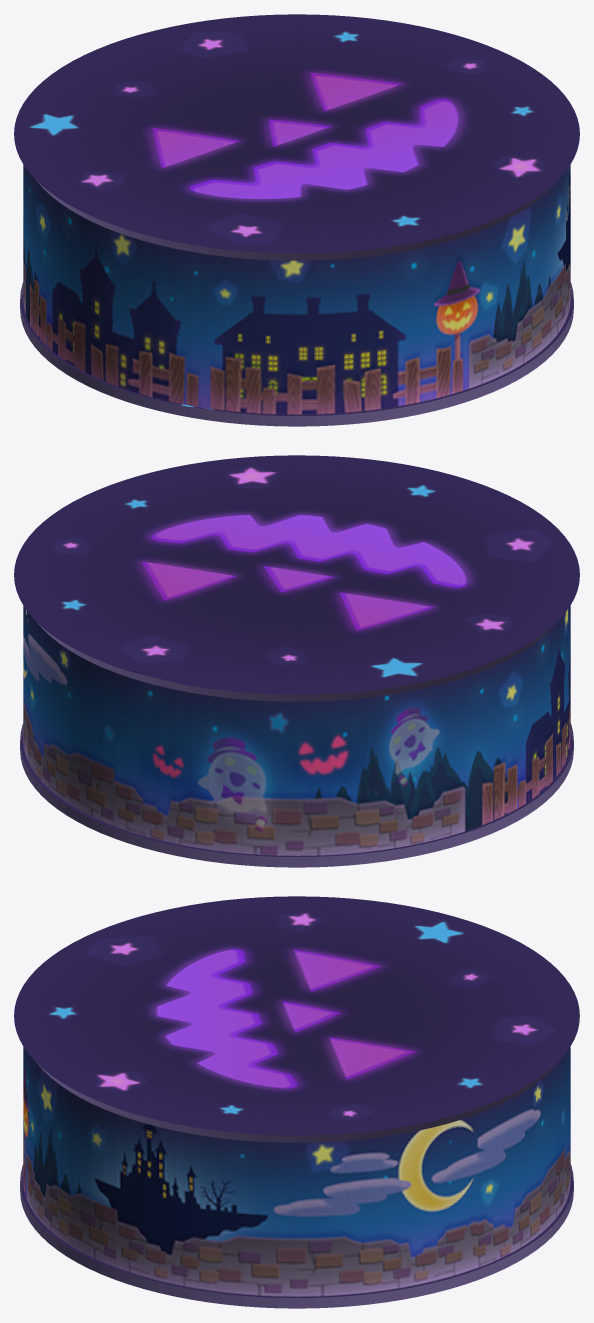
The model's file is pedestal.glb.
The picture shows the model from 3 angles, top to bottom: view 1: azimuth 30°, elevation 25°; view 2: azimuth 150°, elevation 25°; view 3: azimuth 270°, elevation 25°; orthographic projection.
Parts seen in each view (by area): view 1: StandAtlasTop, StandAtlasSide, GoldFootTrim, GoldTopLip, StandSolidBottom; view 2: StandAtlasTop, StandAtlasSide, GoldFootTrim, GoldTopLip, StandSolidBottom; view 3: StandAtlasTop, StandAtlasSide, GoldFootTrim, GoldTopLip, StandSolidBottom.
Part boxes in pixels (left/top/right/bottom): StandAtlasTop: left=14, top=14, right=579, bottom=253; StandAtlasSide: left=23, top=165, right=570, bottom=414; GoldFootTrim: left=20, top=282, right=573, bottom=426; GoldTopLip: left=33, top=177, right=560, bottom=260; StandSolidBottom: left=20, top=293, right=573, bottom=415; StandAtlasTop: left=14, top=455, right=579, bottom=694; StandAtlasSide: left=23, top=606, right=570, bottom=855; GoldFootTrim: left=20, top=723, right=573, bottom=867; GoldTopLip: left=33, top=618, right=560, bottom=701; StandSolidBottom: left=20, top=734, right=573, bottom=856; StandAtlasTop: left=14, top=896, right=579, bottom=1135; StandAtlasSide: left=23, top=1047, right=570, bottom=1296; GoldFootTrim: left=20, top=1164, right=573, bottom=1308; GoldTopLip: left=33, top=1059, right=560, bottom=1142; StandSolidBottom: left=20, top=1175, right=573, bottom=1297.
Bounding box in the file's own units: 3.67 × 1.26 × 3.67.
Materials: 2 (1 with a texture image).
